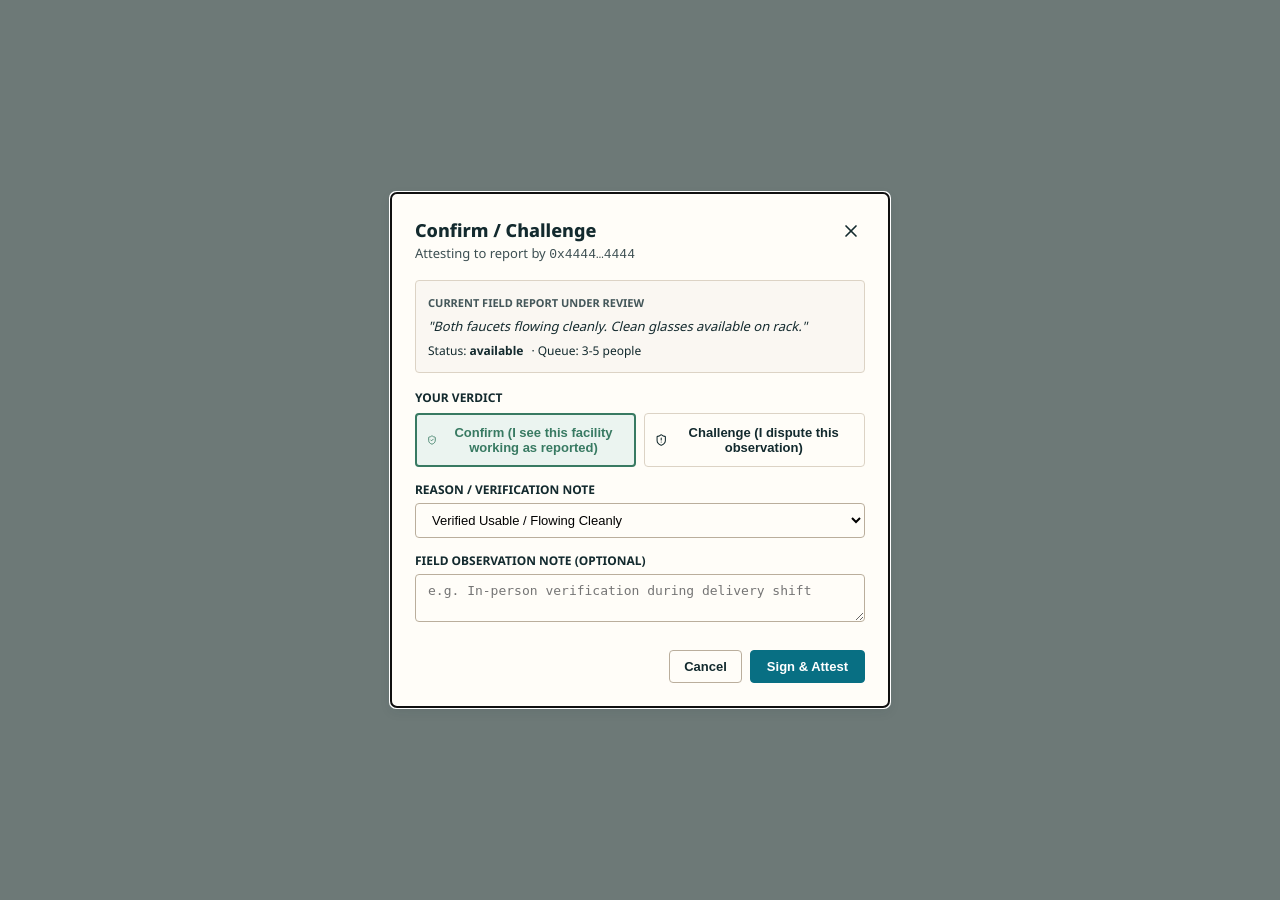
Test: App and Modals Comprehensive Test Suite › AttestationModal › displays error message if attestation publication fails
Click the button "Sign & Attest". click: coordinates (807, 667)
box: [750,650,865,683]
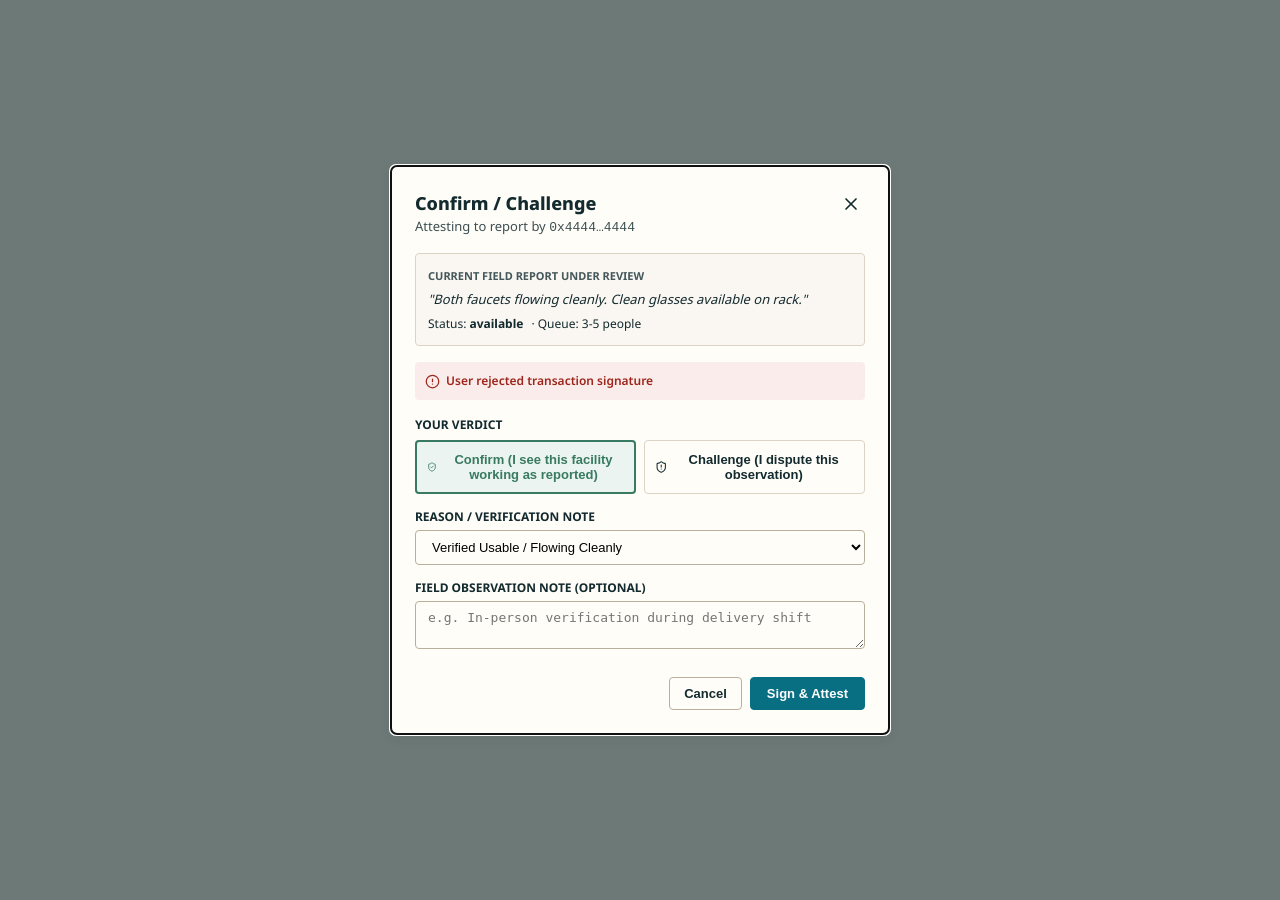
Check: the text "User rejected transaction signature" is shown, box [446,372,653,390]
